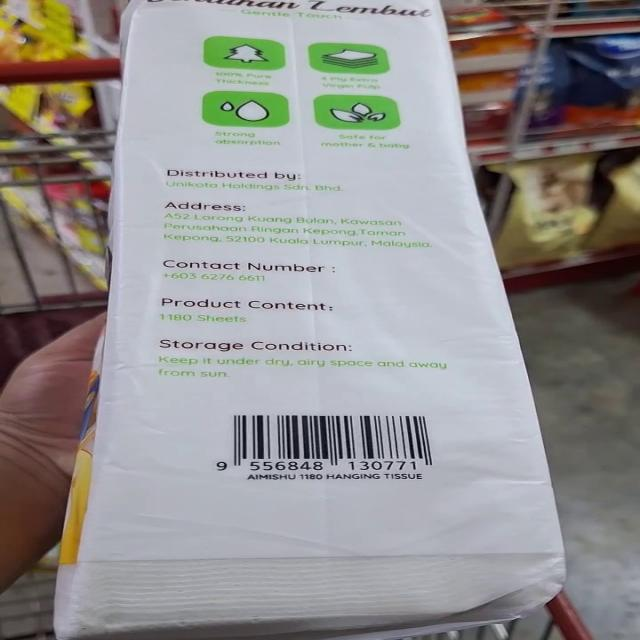Tisu: (55, 292, 575, 636), (107, 0, 508, 295)
